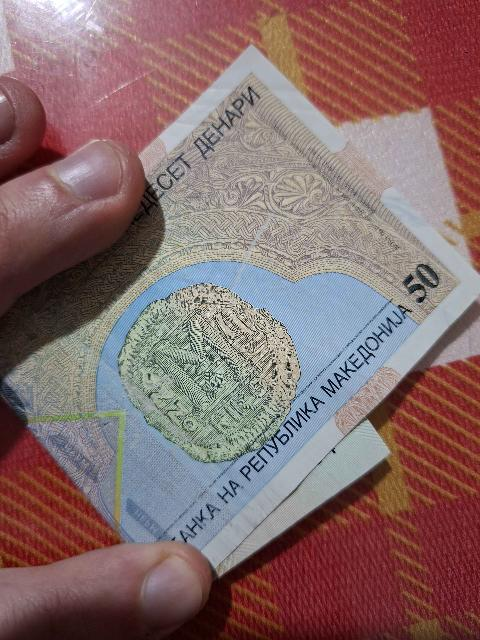50_note: (0, 52, 479, 564)
